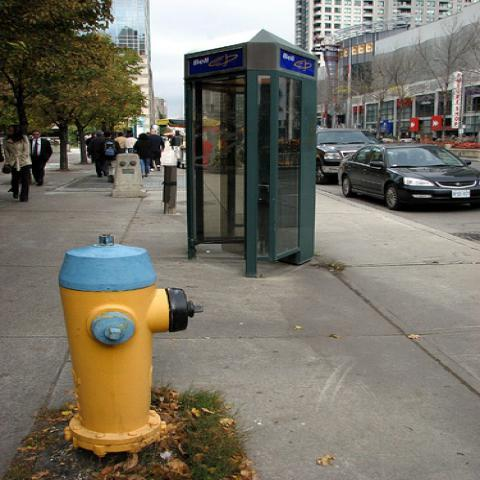car: (335, 142, 479, 210), (317, 127, 380, 185)
